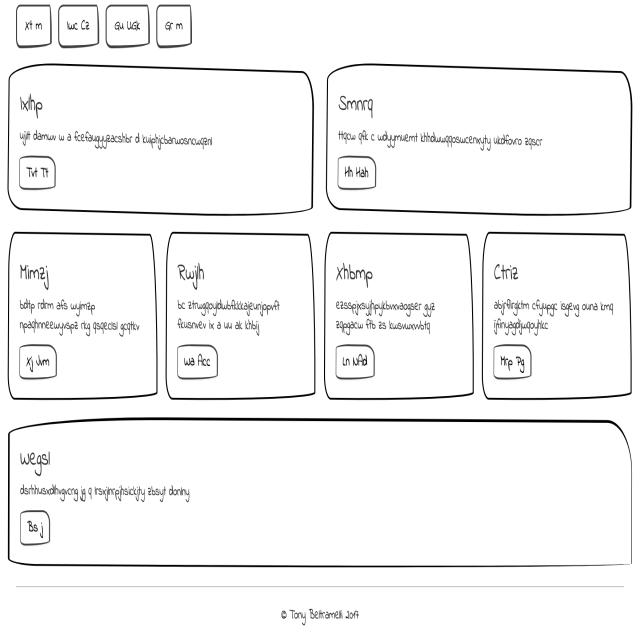Button: (17, 340, 62, 384), (21, 152, 61, 194), (336, 160, 380, 196), (176, 345, 214, 386), (493, 336, 527, 381), (338, 348, 373, 386), (20, 508, 51, 546)
Card: (326, 68, 638, 220), (12, 70, 311, 215), (0, 223, 154, 392), (480, 229, 630, 397), (167, 236, 318, 394), (327, 237, 472, 394)
Footer: (0, 580, 640, 640)
Heading 6: (332, 82, 388, 116), (174, 254, 216, 287), (332, 260, 378, 283), (18, 252, 49, 286), (489, 254, 525, 282), (19, 446, 59, 468), (18, 93, 51, 111)
Navigation Bar: (17, 6, 195, 46)
Paragraph: (13, 422, 632, 559), (340, 122, 558, 151), (492, 291, 618, 331), (20, 297, 146, 335), (20, 124, 218, 148), (329, 297, 449, 335), (176, 297, 288, 336), (21, 481, 202, 501)
